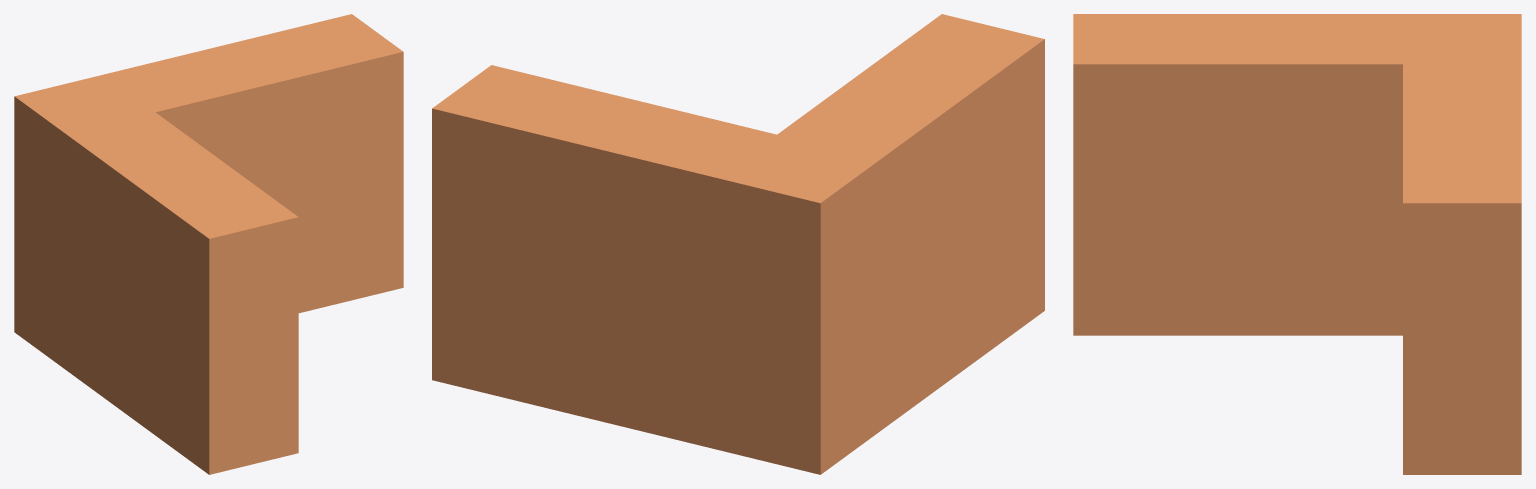
Rendered from TrimCapCornIn.gltf.
3 views of the same model, side by side, from view 1: azimuth 30°, elevation 25°; view 2: azimuth 150°, elevation 25°; view 3: azimuth 270°, elevation 25° (orthographic). The views are drawn at different scales.
Parts seen in each view (by area): view 1: TrimCapCornInShape; view 2: TrimCapCornInShape; view 3: TrimCapCornInShape.
Boxes of the visible parts, x1,y1,x2,y2 form: TrimCapCornInShape: (14, 14, 403, 474); TrimCapCornInShape: (432, 14, 1044, 474); TrimCapCornInShape: (1073, 14, 1521, 474).
Size of the model in its own units: 42.2 by 28.2 by 42.2.
1 material, 1 textured.
